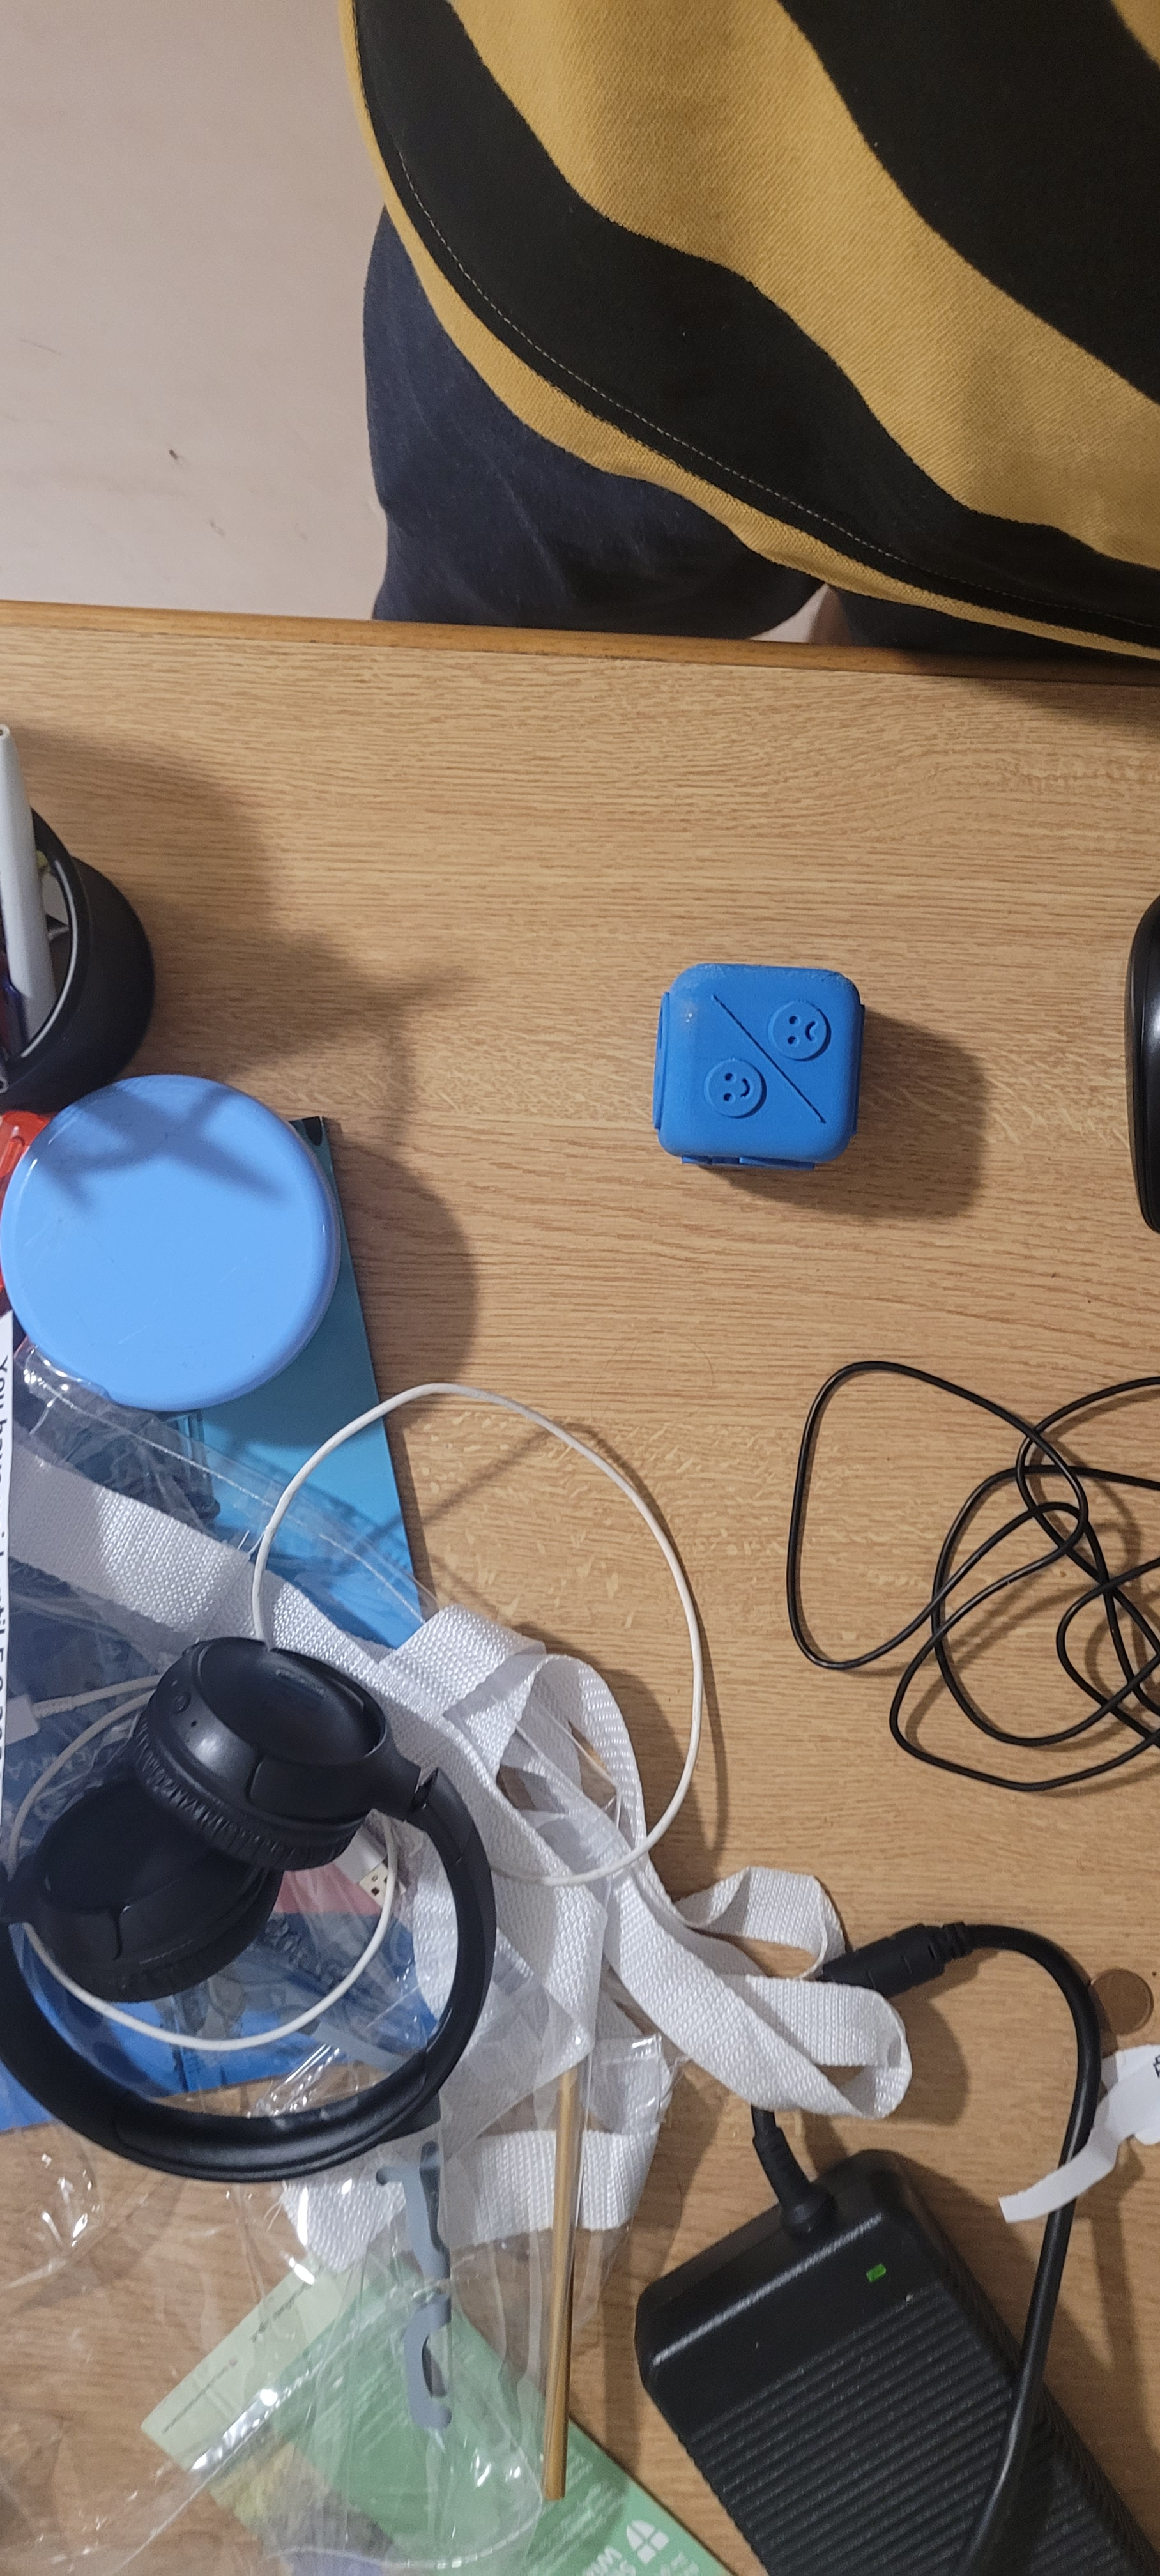Like/Dislike: (636, 936, 868, 1165)
